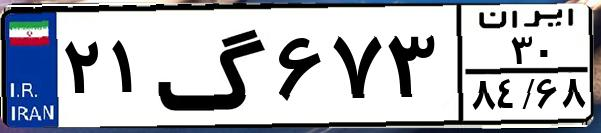0: (537, 27, 568, 80)
1: (110, 28, 156, 98)
2: (57, 26, 110, 100)
3: (385, 28, 445, 110), (508, 27, 537, 80)
4: (495, 70, 520, 125)
6: (270, 28, 330, 110), (535, 70, 560, 125)
7: (330, 28, 385, 110)
8: (560, 70, 590, 125), (470, 70, 495, 125)
گ: (156, 12, 270, 120)
